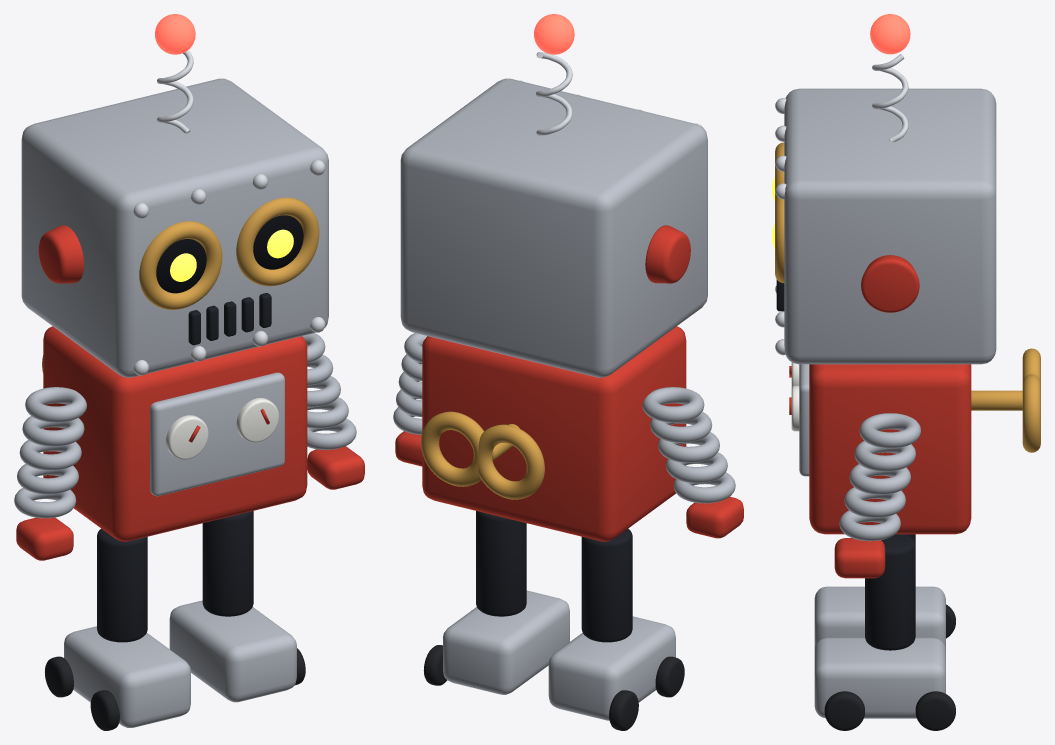
File: rivet.glb
3 renders of one model, left to right at view 1: azimuth 30°, elevation 25°; view 2: azimuth 150°, elevation 25°; view 3: azimuth 270°, elevation 25°, orthographic.
Parts seen in each view (by area): view 1: Head.002, Body.002, Panel, Foot.001, Foot, Leg.004, Leg.005, Porthole.001, Porthole, Ear, Pincer, Pincer.001 (+19 smaller); view 2: Head.002, Body.002, Foot.001, Foot, Leg.004, Leg.005, KeyLobe, KeyLobe.001, Ear, Pincer, Accordion, Bulb (+9 smaller); view 3: Head.002, Body.002, Foot.001, Leg.005, Foot, Ear.001, Pincer.001, Accordion.005, KeyLobe.001, Accordion.007, Accordion.006, Accordion.008 (+9 smaller).
Boxes of the visible parts, x1,y1,x2,y2 form: Head.002: (21,78,328,377); Body.002: (43,326,307,541); Panel: (150,372,284,496); Foot.001: (169,600,296,702); Foot: (64,626,190,727); Leg.004: (97,528,147,642); Leg.005: (202,511,253,616); Porthole.001: (236,197,319,286); Porthole: (139,221,222,309); Ear: (38,225,83,283); Pincer: (16,517,73,560); Pincer.001: (307,446,364,489); Head.002: (400,78,707,377); Body.002: (422,326,686,541); Foot.001: (443,590,569,694); Foot: (548,616,675,720); Leg.004: (581,528,632,642); Leg.005: (476,511,526,616); KeyLobe: (478,424,544,499); KeyLobe.001: (421,411,483,486); Ear: (645,225,690,283); Pincer: (686,496,743,538); Accordion: (642,387,704,422); Bulb: (534,14,574,54); Head.002: (784,88,996,364); Body.002: (809,364,971,534); Foot.001: (814,637,945,718); Leg.005: (865,534,915,650); Foot: (814,586,945,649); Ear.001: (861,255,919,312); Pincer.001: (834,538,885,578); Accordion.005: (859,413,920,448); KeyLobe.001: (1022,374,1040,452); Accordion.007: (849,464,910,494); Accordion.006: (854,441,915,471); Accordion.008: (844,487,905,517).
Bounding box in the file's own units: 0.758 × 1.46 × 0.532.
